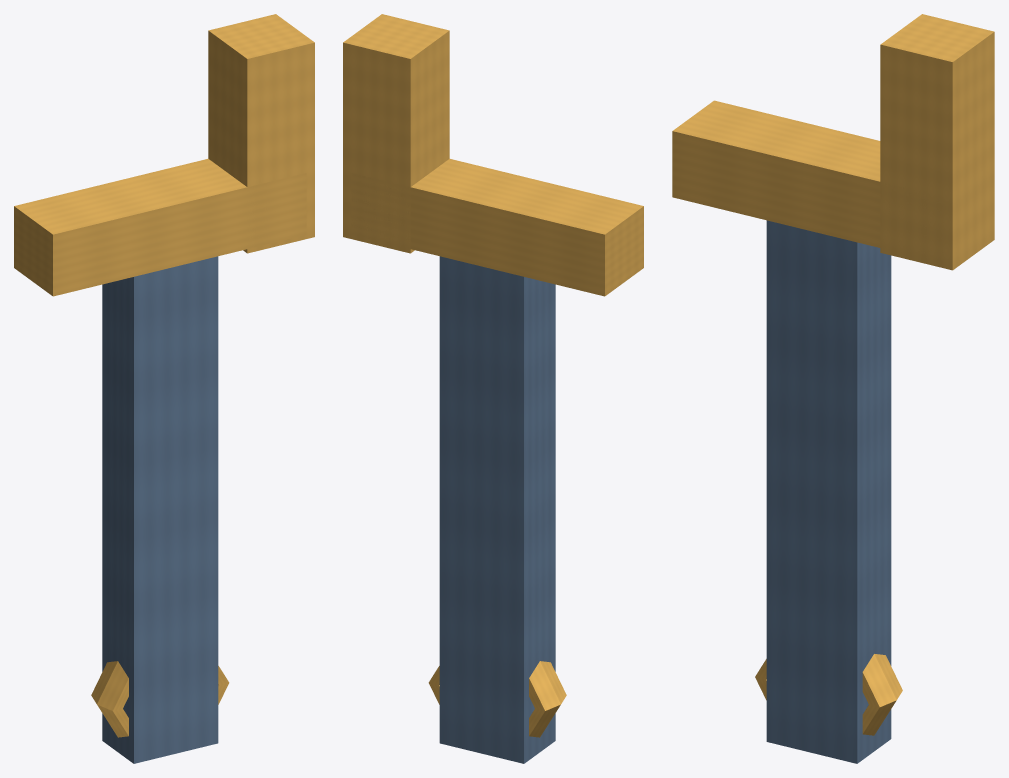
File: atlas100-s052-a05.lod2.glb
The picture shows the model from 3 angles, left to right: view 1: azimuth 30°, elevation 25°; view 2: azimuth 150°, elevation 25°; view 3: azimuth 330°, elevation 25°; orthographic projection. The views are drawn at different scales.
Parts seen in each view (by area): view 1: atlas100-s052-a05:part-000, atlas100-s052-a05:part-003, atlas100-s052-a05:part-002, atlas100-s052-a05:part-004; view 2: atlas100-s052-a05:part-000, atlas100-s052-a05:part-003, atlas100-s052-a05:part-002, atlas100-s052-a05:part-004; view 3: atlas100-s052-a05:part-000, atlas100-s052-a05:part-002, atlas100-s052-a05:part-003, atlas100-s052-a05:part-004.
Part boxes in pixels (left/top/right/bottom): atlas100-s052-a05:part-000: left=102, top=256, right=218, bottom=763; atlas100-s052-a05:part-003: left=14, top=158, right=306, bottom=296; atlas100-s052-a05:part-002: left=208, top=14, right=314, bottom=253; atlas100-s052-a05:part-004: left=91, top=661, right=229, bottom=737; atlas100-s052-a05:part-000: left=439, top=256, right=555, bottom=763; atlas100-s052-a05:part-003: left=351, top=158, right=643, bottom=296; atlas100-s052-a05:part-002: left=343, top=14, right=449, bottom=253; atlas100-s052-a05:part-004: left=428, top=661, right=566, bottom=737; atlas100-s052-a05:part-000: left=766, top=220, right=891, bottom=763; atlas100-s052-a05:part-002: left=880, top=14, right=994, bottom=270; atlas100-s052-a05:part-003: left=672, top=100, right=943, bottom=262; atlas100-s052-a05:part-004: left=755, top=654, right=902, bottom=735.
Bounding box in the file's own units: 0.3385 × 0.8462 × 0.0874.
2 materials, 2 textured.
